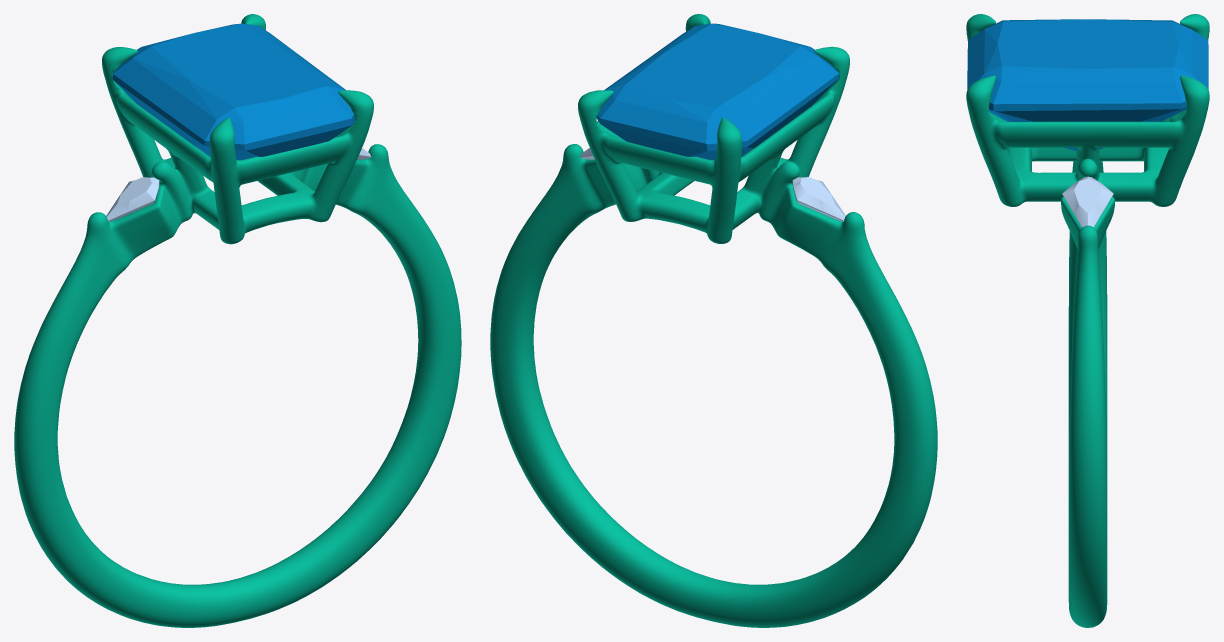
The model's file is BE1D032_RA_200ct_RENDER.glb.
3 renders of one model, left to right at view 1: azimuth 30°, elevation 25°; view 2: azimuth 150°, elevation 25°; view 3: azimuth 270°, elevation 25°, orthographic.
Parts seen in each view (by area): view 1: Metal 01, CS_Diamond_Radiant, Diamond_Marquise_Side; view 2: Metal 01, CS_Diamond_Radiant, Diamond_Marquise_Side; view 3: Metal 01, CS_Diamond_Radiant, Diamond_Marquise_Side.001.
Boxes of the visible parts, x1,y1,x2,y2 form: Metal 01: (14, 14, 461, 627); CS_Diamond_Radiant: (112, 23, 355, 160); Diamond_Marquise_Side: (106, 177, 159, 221); Metal 01: (490, 14, 937, 627); CS_Diamond_Radiant: (596, 23, 838, 159); Diamond_Marquise_Side: (792, 177, 845, 221); Metal 01: (966, 14, 1209, 627); CS_Diamond_Radiant: (967, 19, 1208, 151); Diamond_Marquise_Side.001: (1062, 176, 1113, 227).
Bounding box in the file's own units: 19.97 × 23.9 × 9.44.
